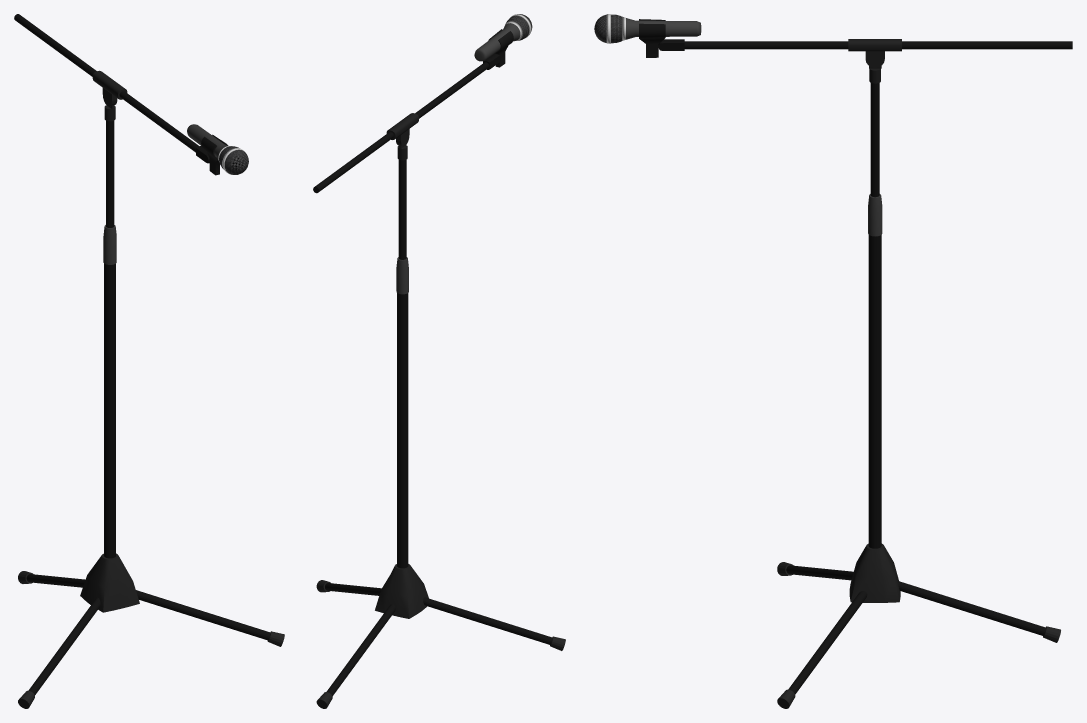
File: sweethome3d-scopia-microphone-with-foot.glb
3 renders of one model, left to right at view 1: azimuth 30°, elevation 25°; view 2: azimuth 150°, elevation 25°; view 3: azimuth 270°, elevation 25°, orthographic. The views are drawn at different scales.
Parts seen in each view (by area): view 1: Foot, sweethome3d_rail_1, sweethome3d_opening_on_rail_2, sweethome3d_opening_on_hinge_2_Micro, sweethome3d_opening_on_rail_1, sweethome3d_rail_2_and_sweethome3d_opening_on_hinge_1; view 2: Foot, sweethome3d_rail_1, sweethome3d_opening_on_rail_2, sweethome3d_opening_on_rail_1, sweethome3d_opening_on_hinge_2_Micro; view 3: Foot, sweethome3d_rail_1, sweethome3d_opening_on_rail_2, sweethome3d_opening_on_hinge_2_Micro, sweethome3d_opening_on_rail_1, sweethome3d_opening_on_hinge_2_Handle.
Part boxes in pixels (x1,y1,x2,y2): Foot: (18, 553, 284, 708); sweethome3d_rail_1: (103, 225, 116, 558); sweethome3d_opening_on_rail_2: (14, 14, 209, 163); sweethome3d_opening_on_hinge_2_Micro: (187, 124, 248, 174); sweethome3d_opening_on_rail_1: (104, 105, 115, 227); sweethome3d_rail_2_and_sweethome3d_opening_on_hinge_1: (92, 70, 127, 99); Foot: (316, 564, 565, 708); sweethome3d_rail_1: (396, 257, 408, 568); sweethome3d_opening_on_rail_2: (313, 53, 500, 193); sweethome3d_opening_on_rail_1: (397, 145, 407, 259); sweethome3d_opening_on_hinge_2_Micro: (474, 14, 532, 61); Foot: (777, 543, 1060, 708); sweethome3d_rail_1: (868, 194, 882, 548); sweethome3d_opening_on_rail_2: (658, 39, 1072, 50); sweethome3d_opening_on_hinge_2_Micro: (594, 14, 701, 43); sweethome3d_opening_on_rail_1: (869, 66, 881, 197); sweethome3d_opening_on_hinge_2_Handle: (639, 19, 665, 57).
Size of the model in its own units: 67.35 by 143 by 98.74.
12 materials, 1 textured.
